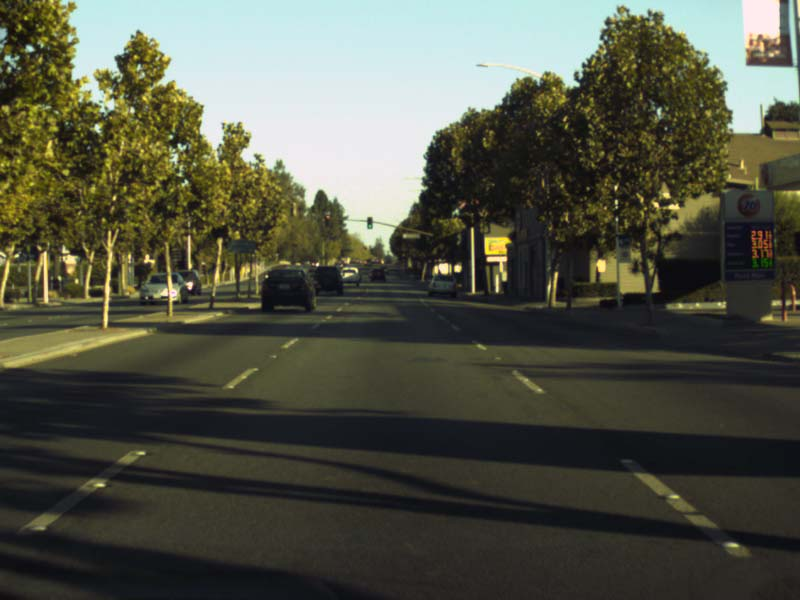Green: (367, 217, 372, 228)
Red: (324, 214, 328, 226)
